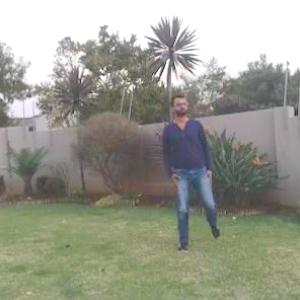follow: (161, 84, 218, 256)
